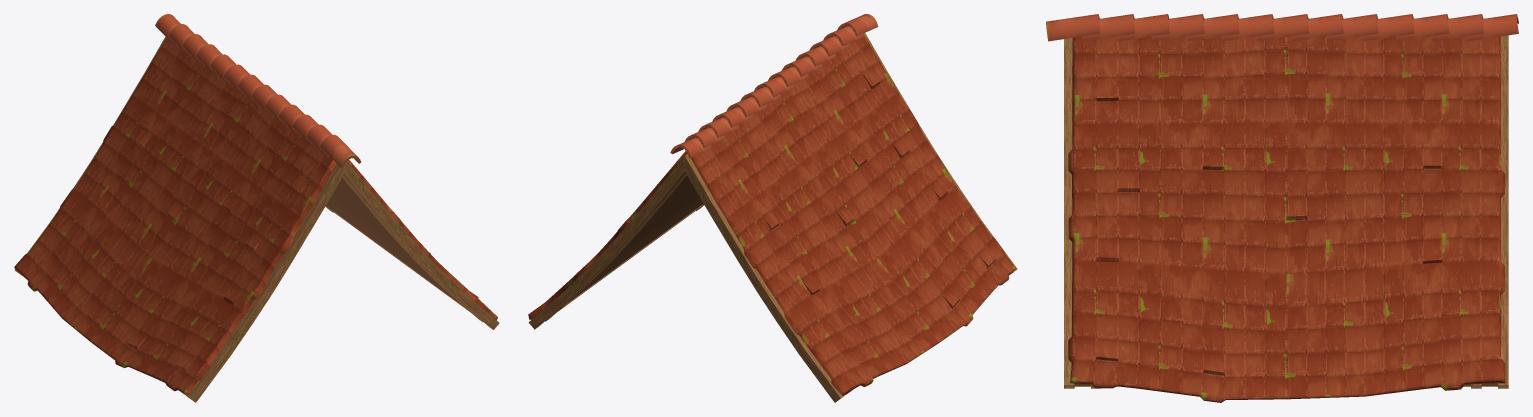
The model's file is Roof_FlatTiles_8x8.gltf.
3 renders of one model, left to right at view 1: azimuth 30°, elevation 25°; view 2: azimuth 150°, elevation 25°; view 3: azimuth 270°, elevation 25°, orthographic. The views are drawn at different scales.
Visible parts, largest first — view 1: Roof_FlatTiles_8x8; view 2: Roof_FlatTiles_8x8; view 3: Roof_FlatTiles_8x8.
Part boxes in pixels (x1,y1,x2,y2): Roof_FlatTiles_8x8: (14,14,499,402); Roof_FlatTiles_8x8: (528,14,1017,402); Roof_FlatTiles_8x8: (1046,14,1518,402).
Bounding box in the file's own units: 10.71 × 6.86 × 10.33.
3 materials, 3 textured.
